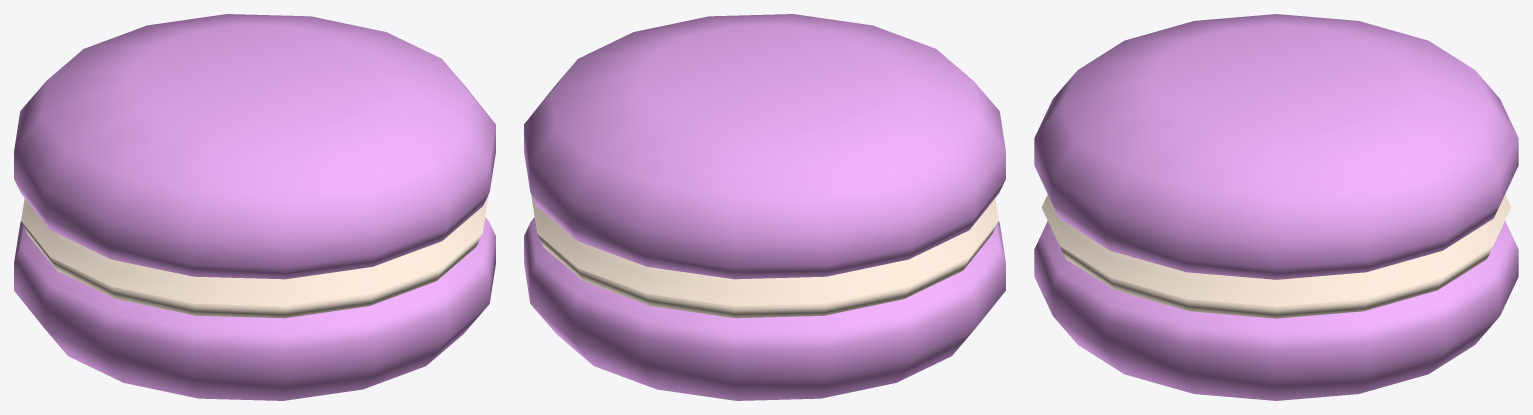
The model's file is SM_macaron_02.fbx.
The picture shows the model from 3 angles, left to right: view 1: azimuth 30°, elevation 25°; view 2: azimuth 150°, elevation 25°; view 3: azimuth 270°, elevation 25°; orthographic projection.
Visible parts, largest first — view 1: SM_macaron_02; view 2: SM_macaron_02; view 3: SM_macaron_02.
Boxes of the visible parts, <box> form: SM_macaron_02: <box>14,14,495,400</box>; SM_macaron_02: <box>524,14,1005,400</box>; SM_macaron_02: <box>1034,14,1518,400</box>.
Bounding box in the file's own units: 9.06 × 5.33 × 9.06.
Materials: 1 (1 with a texture image).
